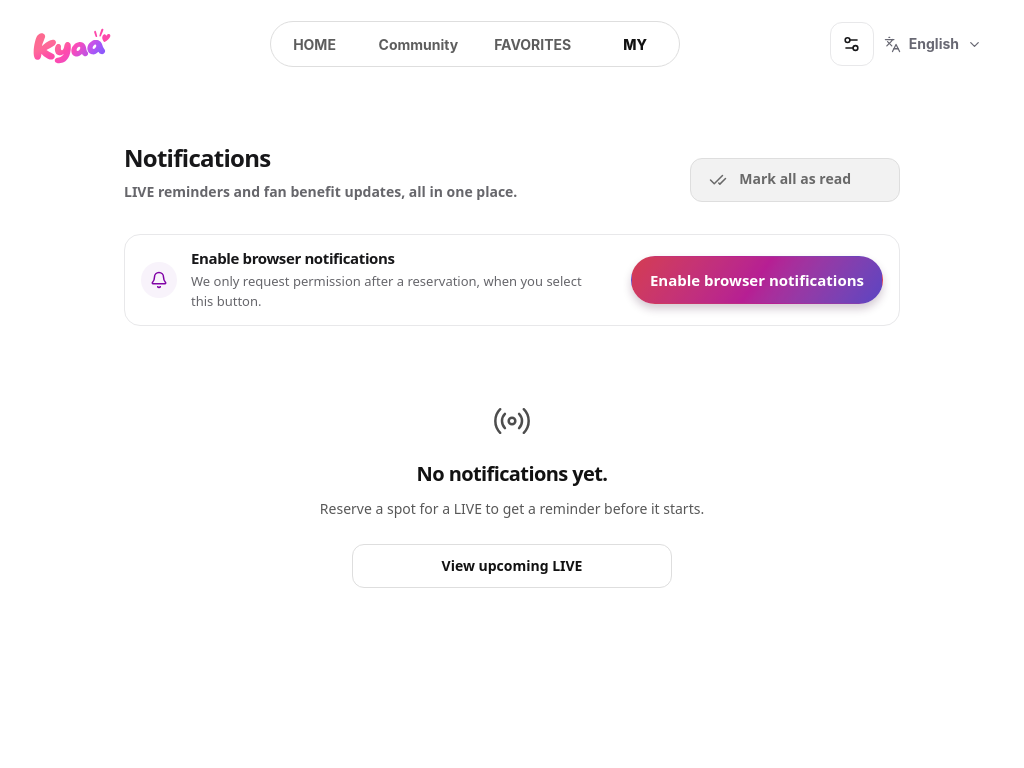
FAN-019 Notification Center › announces the English denied push result
Expected: the heading "No notifications yet." is shown, [417,461,607,486]
Click the button "Enable browser notifications" at (757, 280), box [631,256,883,304]
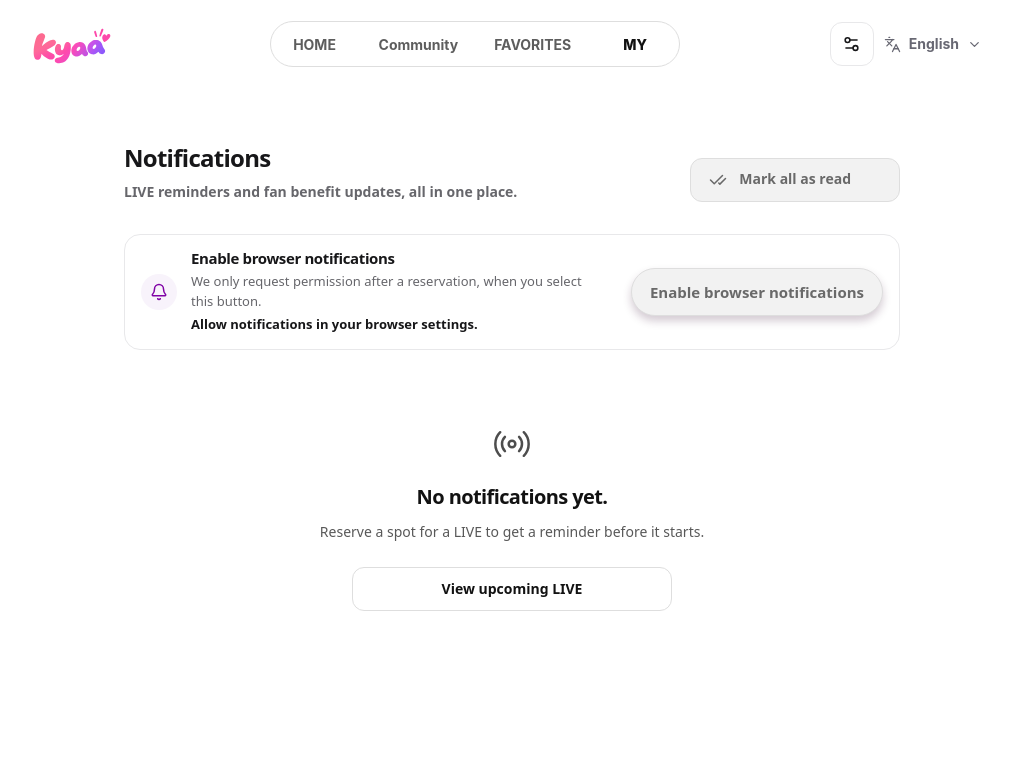
Expected: the text "Allow notifications in your browser settings." is shown, [191,315,478,333]
Expected: the button "Enable browser notifications" is disabled, [631,268,883,316]
